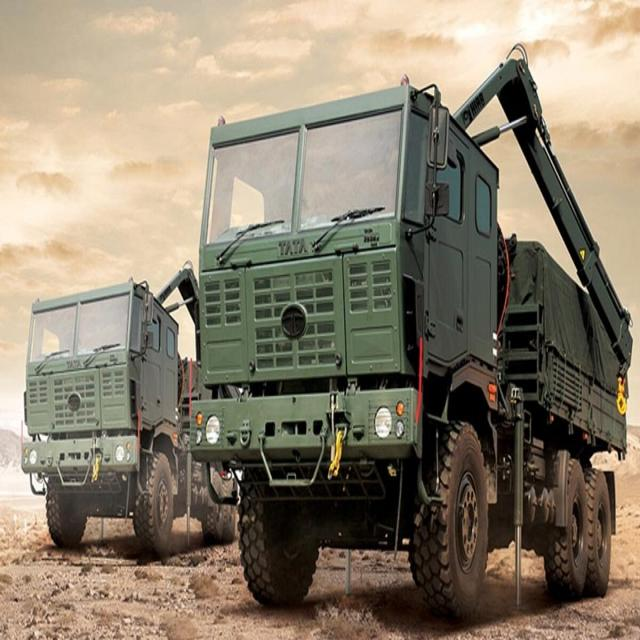truck: (190, 52, 631, 620), (21, 264, 235, 557)
